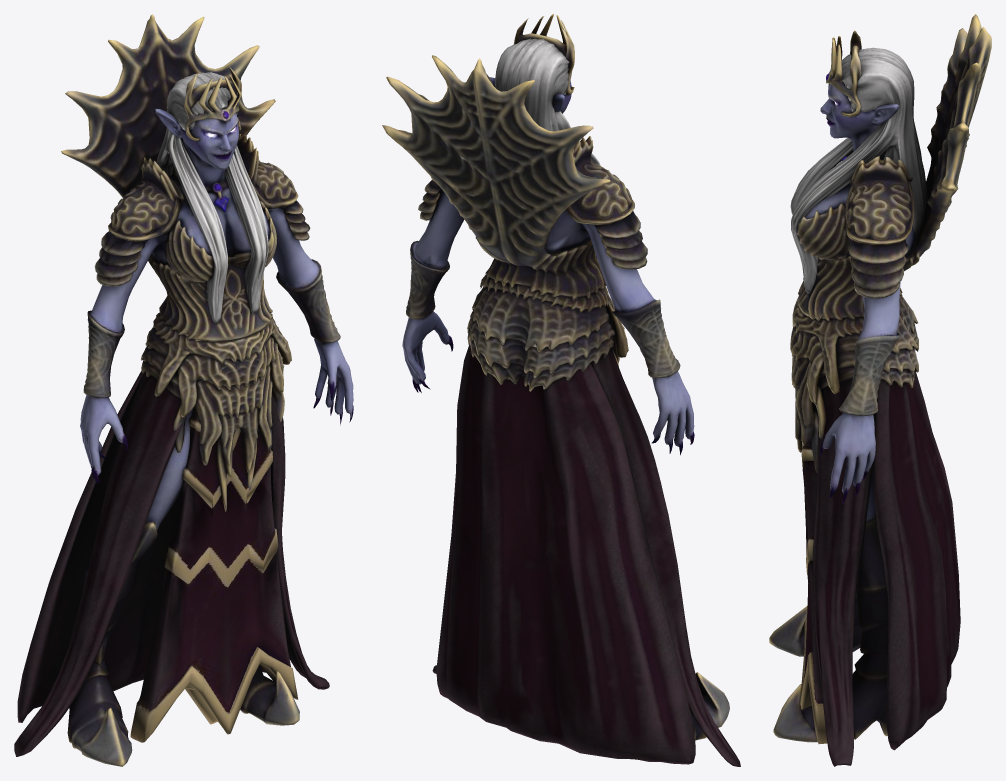
File: MZ4250 - Lolth_Drow.glb
The picture shows the model from 3 angles, left to right: view 1: azimuth 30°, elevation 25°; view 2: azimuth 150°, elevation 25°; view 3: azimuth 270°, elevation 25°; orthographic projection. The views are drawn at different scales.
Parts seen in each view (by area): view 1: Body.001; view 2: Body.001; view 3: Body.001.
Part boxes in pixels (box(x1,y1,x2,y2)): Body.001: box(14, 14, 353, 766); Body.001: box(382, 14, 740, 766); Body.001: box(769, 14, 991, 766).
Size of the model in its own units: 0.5071 by 0.9886 by 0.2869.
1 material, 1 textured.
